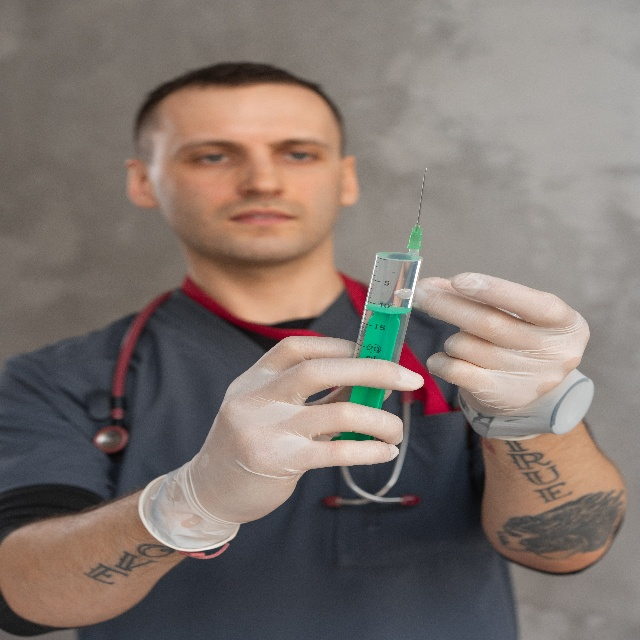Guantes: (138, 331, 426, 554), (412, 275, 594, 442)
Sin_guantes: (193, 336, 422, 523), (412, 273, 591, 416)
